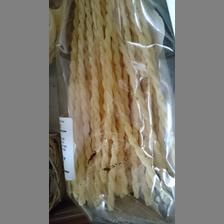Nudeln: (62, 0, 172, 212)
